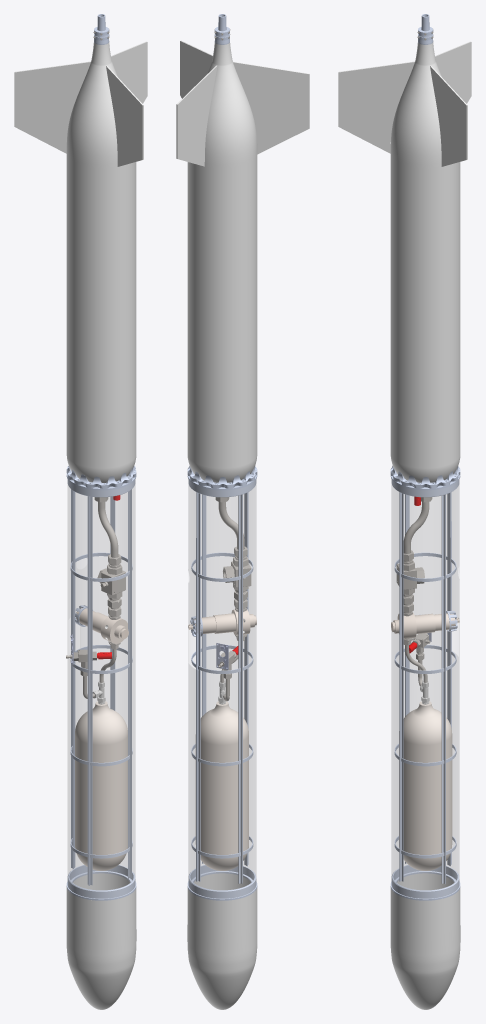
File: GWS001_FM_Total_Assembly_v1.0.glb
The picture shows the model from 3 angles, left to right: view 1: azimuth 90°, elevation 25°; view 2: azimuth 150°, elevation 25°; view 3: azimuth 330°, elevation 25°; orthographic projection.
Visible parts, largest first — view 1: GWS001_FM_CFRPRSV_1.0-1, GWS001_MiddleSkin_CAD_v1.0-1, GWS001_PneumaticRack_CAD_v1.0-1, GWS_COPV_TUXIN_6_8L_CAD_v1.0-1, GWS001_FairingPassiveHalf_CAD_v1.0-1, GWS001_FairingActiveHalf_CAD_v1.0-1, GWS001_PayloadSkirt_CAD_v1.0-1, GWS001_TESCOM_44-1326-2122-005_v1.0-1, APX_VBS3VT3_4P-ZN_v1.0-1, GWS001_Yskirt_v1.0-1, GWS001_54bargPipe_CAD_v1.0-2; view 2: GWS001_FM_CFRPRSV_1.0-1, GWS001_MiddleSkin_CAD_v1.0-1, GWS001_PneumaticRack_CAD_v1.0-1, GWS_COPV_TUXIN_6_8L_CAD_v1.0-1, GWS001_FairingActiveHalf_CAD_v1.0-1, GWS001_FairingPassiveHalf_CAD_v1.0-1, GWS001_PayloadSkirt_CAD_v1.0-1, GWS001_TESCOM_44-1326-2122-005_v1.0-1, GWS001_Yskirt_v1.0-1, APX_VBS3VT3_4P-ZN_v1.0-1, GWS001_54bargPipe_CAD_v1.0-2; view 3: GWS001_FM_CFRPRSV_1.0-1, GWS001_MiddleSkin_CAD_v1.0-1, GWS001_PneumaticRack_CAD_v1.0-1, GWS_COPV_TUXIN_6_8L_CAD_v1.0-1, GWS001_FairingPassiveHalf_CAD_v1.0-1, GWS001_FairingActiveHalf_CAD_v1.0-1, GWS001_PayloadSkirt_CAD_v1.0-1, GWS001_TESCOM_44-1326-2122-005_v1.0-1, GWS001_Yskirt_v1.0-1, APX_VBS3VT3_4P-ZN_v1.0-1, GWS001_54bargPipe_CAD_v1.0-2.
Part boxes in pixels (x1=…): GWS001_FM_CFRPRSV_1.0-1: x1=14, y1=41, x2=147, y2=482; GWS001_MiddleSkin_CAD_v1.0-1: x1=67, y1=479, x2=135, y2=898; GWS001_PneumaticRack_CAD_v1.0-1: x1=66, y1=473, x2=136, y2=885; GWS_COPV_TUXIN_6_8L_CAD_v1.0-1: x1=75, y1=701, x2=127, y2=870; GWS001_FairingPassiveHalf_CAD_v1.0-1: x1=76, y1=879, x2=136, y2=1009; GWS001_FairingActiveHalf_CAD_v1.0-1: x1=66, y1=873, x2=125, y2=1007; GWS001_PayloadSkirt_CAD_v1.0-1: x1=66, y1=865, x2=136, y2=900; GWS001_TESCOM_44-1326-2122-005_v1.0-1: x1=76, y1=608, x2=128, y2=643; APX_VBS3VT3_4P-ZN_v1.0-1: x1=97, y1=564, x2=125, y2=598; GWS001_Yskirt_v1.0-1: x1=66, y1=466, x2=136, y2=488; GWS001_54bargPipe_CAD_v1.0-2: x1=98, y1=502, x2=118, y2=557; GWS001_FM_CFRPRSV_1.0-1: x1=176, y1=40, x2=309, y2=482; GWS001_MiddleSkin_CAD_v1.0-1: x1=188, y1=479, x2=256, y2=898; GWS001_PneumaticRack_CAD_v1.0-1: x1=187, y1=474, x2=257, y2=883; GWS_COPV_TUXIN_6_8L_CAD_v1.0-1: x1=195, y1=701, x2=248, y2=870; GWS001_FairingActiveHalf_CAD_v1.0-1: x1=187, y1=874, x2=230, y2=1009; GWS001_FairingPassiveHalf_CAD_v1.0-1: x1=214, y1=873, x2=257, y2=1009; GWS001_PayloadSkirt_CAD_v1.0-1: x1=187, y1=865, x2=257, y2=900; GWS001_TESCOM_44-1326-2122-005_v1.0-1: x1=188, y1=609, x2=256, y2=635; GWS001_Yskirt_v1.0-1: x1=187, y1=466, x2=257, y2=487; APX_VBS3VT3_4P-ZN_v1.0-1: x1=223, y1=556, x2=251, y2=590; GWS001_54bargPipe_CAD_v1.0-2: x1=218, y1=502, x2=244, y2=549; GWS001_FM_CFRPRSV_1.0-1: x1=338, y1=41, x2=471, y2=482; GWS001_MiddleSkin_CAD_v1.0-1: x1=391, y1=479, x2=459, y2=898; GWS001_PneumaticRack_CAD_v1.0-1: x1=390, y1=475, x2=460, y2=883; GWS_COPV_TUXIN_6_8L_CAD_v1.0-1: x1=399, y1=701, x2=452, y2=870; GWS001_FairingPassiveHalf_CAD_v1.0-1: x1=390, y1=874, x2=434, y2=1009; GWS001_FairingActiveHalf_CAD_v1.0-1: x1=417, y1=873, x2=460, y2=1009; GWS001_PayloadSkirt_CAD_v1.0-1: x1=390, y1=865, x2=460, y2=900; GWS001_TESCOM_44-1326-2122-005_v1.0-1: x1=391, y1=613, x2=459, y2=638; GWS001_Yskirt_v1.0-1: x1=390, y1=465, x2=460, y2=487; APX_VBS3VT3_4P-ZN_v1.0-1: x1=396, y1=560, x2=424, y2=594; GWS001_54bargPipe_CAD_v1.0-2: x1=403, y1=502, x2=429, y2=553.
Size of the model in its own units: 0.4468 by 3.23 by 0.3923.
